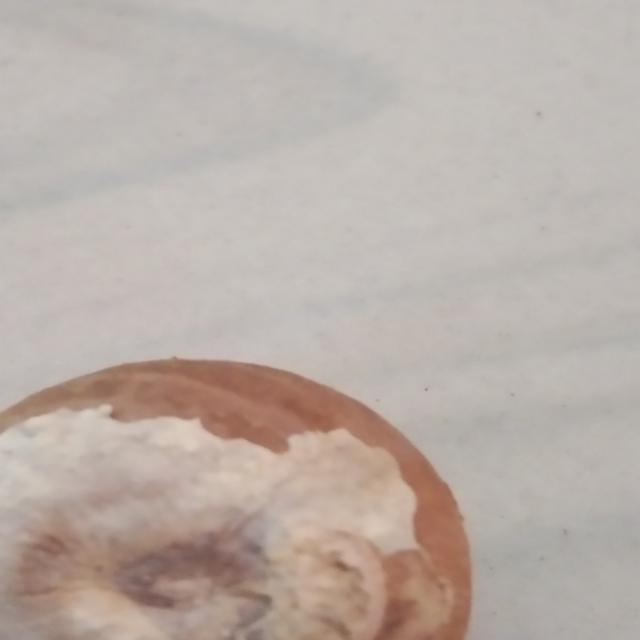good: (0, 345, 495, 640)
